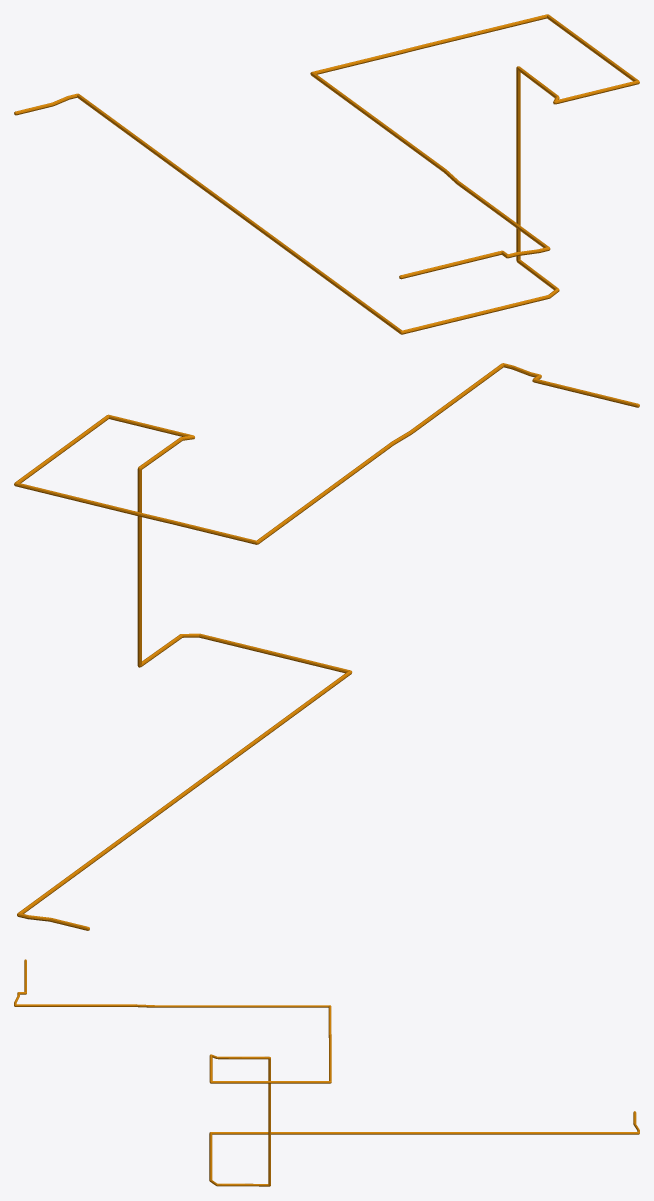
The picture shows the model from 3 angles, top to bottom: view 1: azimuth 30°, elevation 25°; view 2: azimuth 150°, elevation 25°; view 3: azimuth 270°, elevation 25°; orthographic projection. The views are drawn at different scales.
Size of the model in its own units: 2071 by 1020 by 4463.
